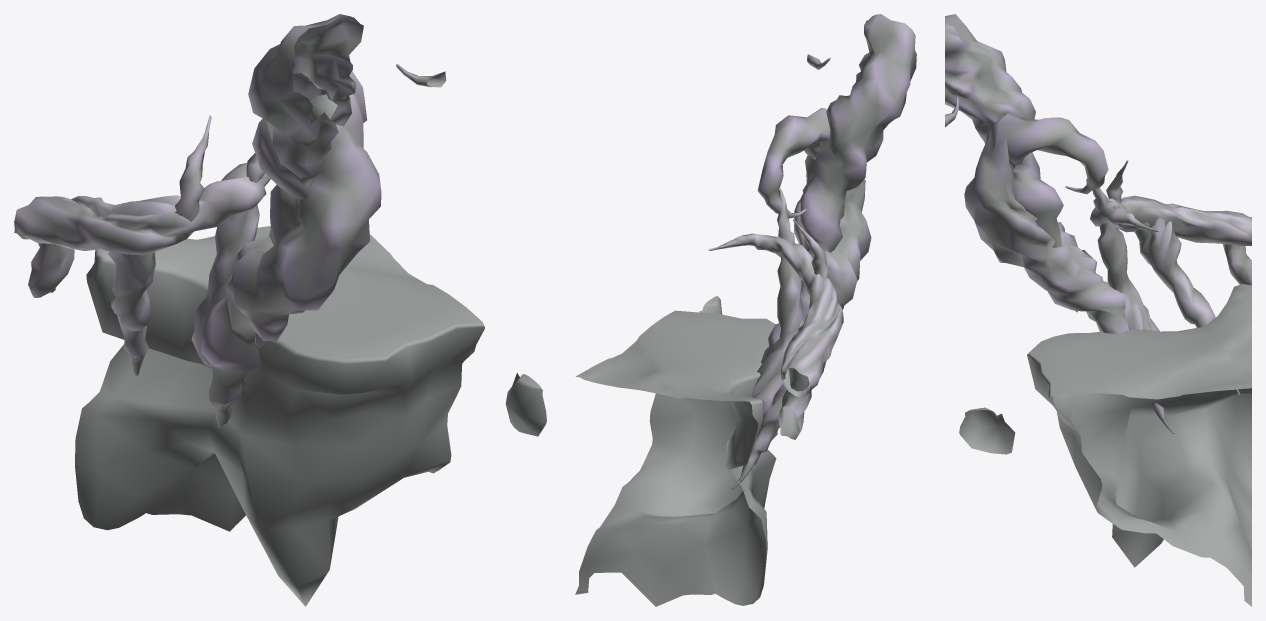
The picture shows the model from 3 angles, left to right: view 1: azimuth 30°, elevation 25°; view 2: azimuth 150°, elevation 25°; view 3: azimuth 270°, elevation 25°; orthographic projection. The views are drawn at different scales.
Parts seen in each view (by area): view 1: G:\FFXIV-MapTools\exports\a2f2\bg\ex1\03_abr_a2\fld\a2f2\bgp (×6); view 2: G:\FFXIV-MapTools\exports\a2f2\bg\ex1\03_abr_a2\fld\a2f2\bgp (×5); view 3: G:\FFXIV-MapTools\exports\a2f2\bg\ex1\03_abr_a2\fld\a2f2\bgp (×6).
Boxes of the visible parts, left/top/right/bottom form: G:\FFXIV-MapTools\exports\a2f2\bg\ex1\03_abr_a2\fld\a2f2\bgp (×6): left=14, top=14, right=546, bottom=606; G:\FFXIV-MapTools\exports\a2f2\bg\ex1\03_abr_a2\fld\a2f2\bgp (×5): left=575, top=14, right=916, bottom=606; G:\FFXIV-MapTools\exports\a2f2\bg\ex1\03_abr_a2\fld\a2f2\bgp (×6): left=945, top=14, right=1251, bottom=606.
Size of the model in its own units: 114 by 235 by 128.
